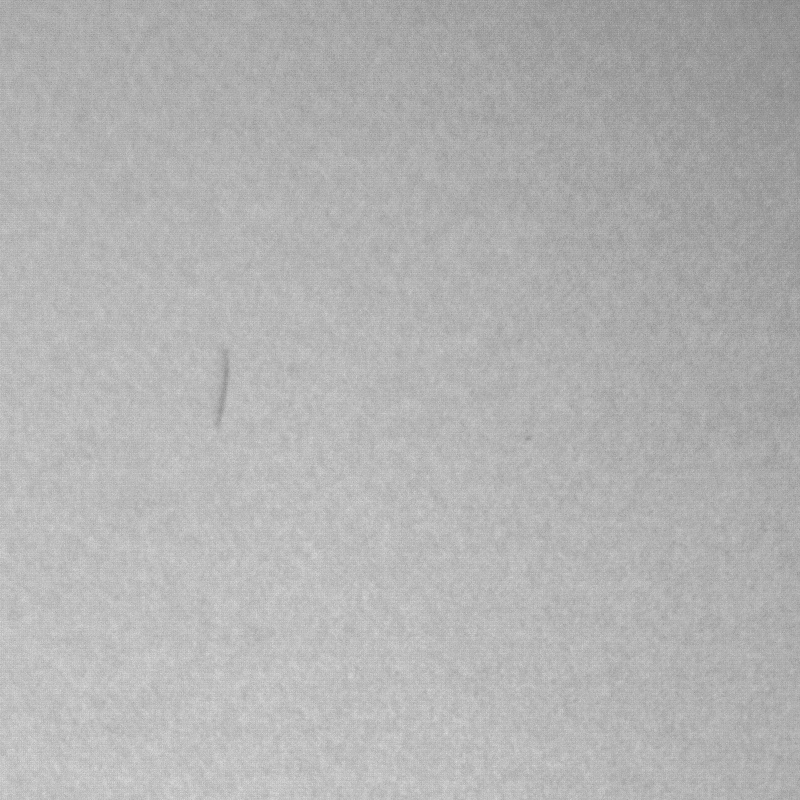defect: (215, 350, 230, 425)
